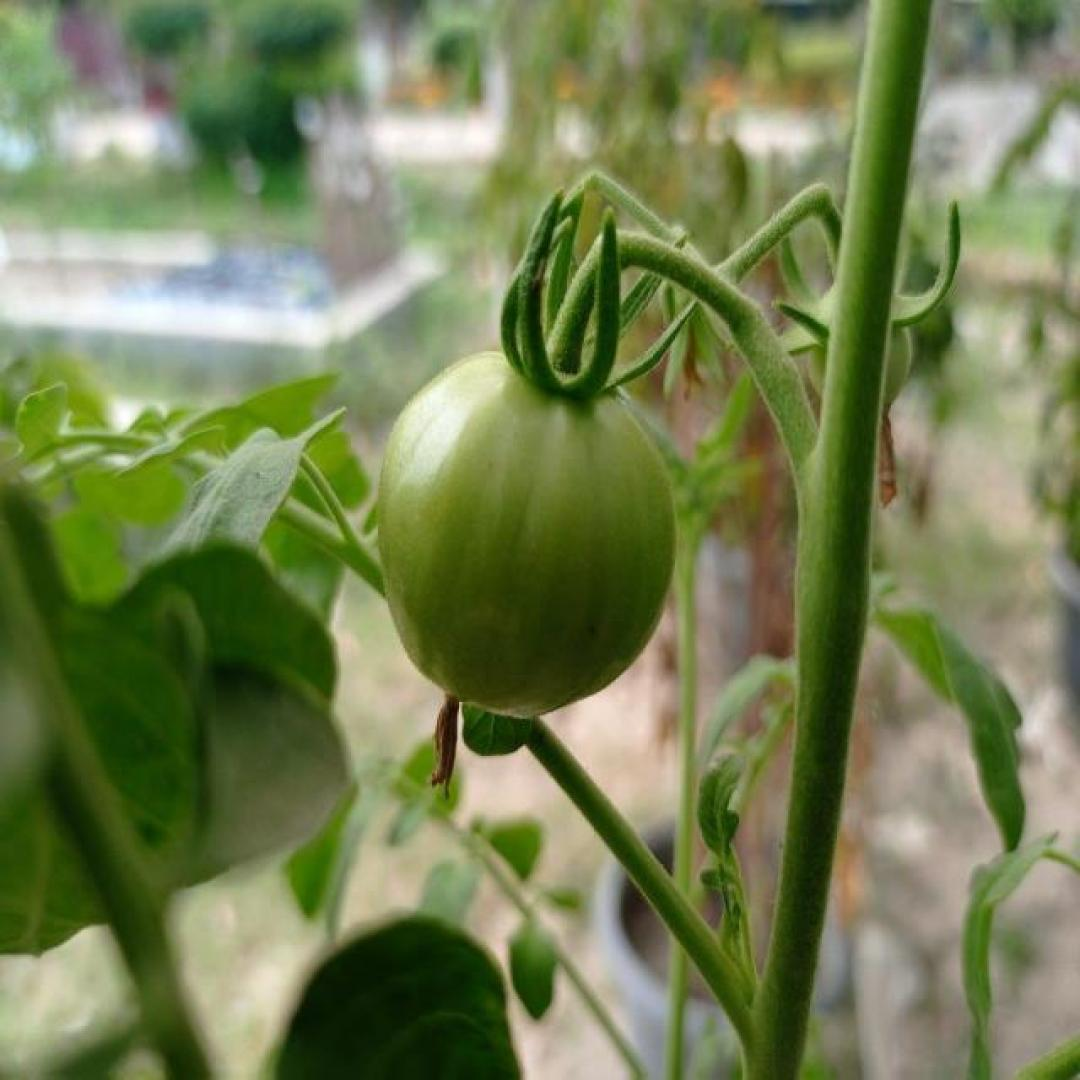mentah: (373, 346, 680, 722)
